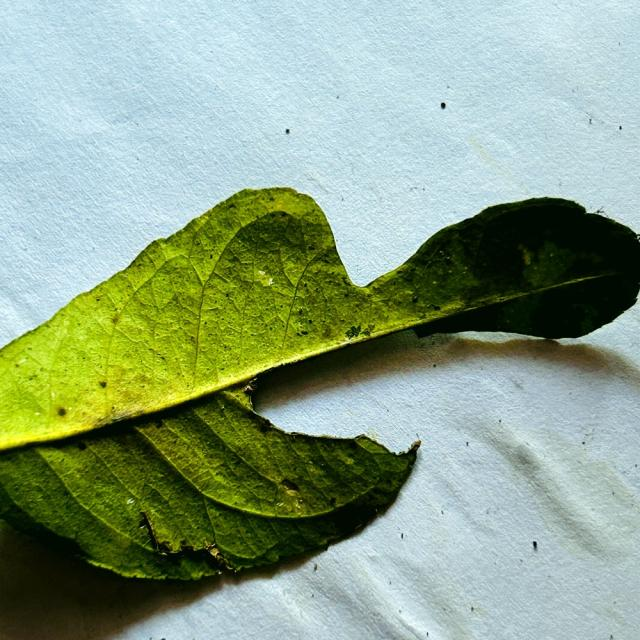Deficiency Leaf: (255, 333, 560, 450), (321, 194, 479, 285)
Lemon: (0, 188, 639, 584)
